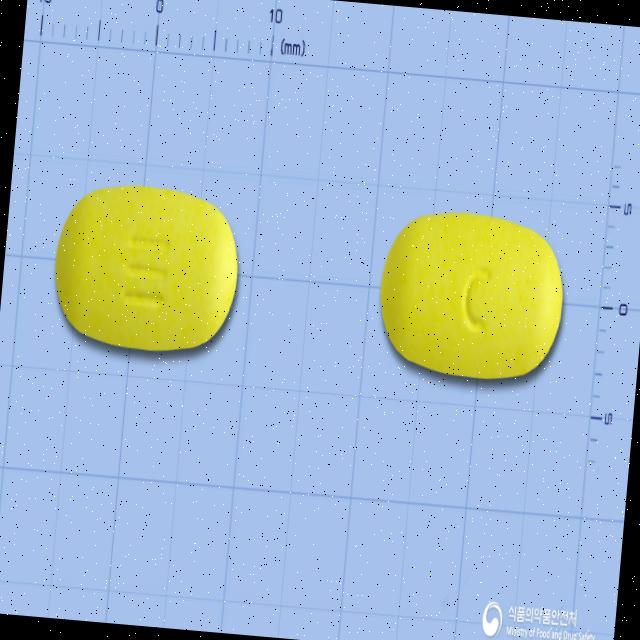Clararoxin: (46, 172, 250, 364), (370, 204, 576, 390)
